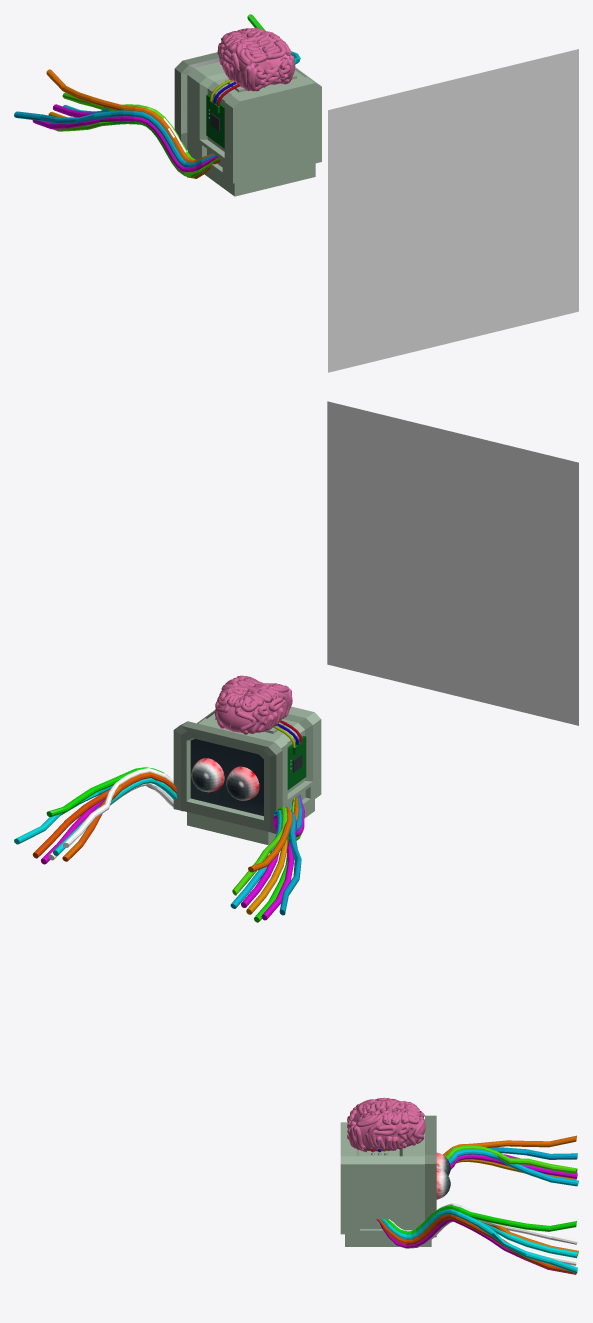
Rendered from Doomscroller Complete.fbx.
3 renders of one model, top to bottom at view 1: azimuth 30°, elevation 25°; view 2: azimuth 150°, elevation 25°; view 3: azimuth 270°, elevation 25°, orthographic. The views are drawn at different scales.
Visible parts, largest first — view 1: Plane, Cube, BezierCurve.003, Cube.010, Cube.011, Cube.009, Cube.008, Cube.002, Cube.005; view 2: Plane, Cube, BezierCurve.003, Sphere, Sphere.001, Cube.019, Cube.010, Cube.012, Cube.002, Cube.015, Cube.009, Cube.013 (+1 smaller); view 3: Cube, BezierCurve.003, Cube.014, Cube.013, Cube.015, Cube.005, Cube.004, Cube.002, Cube.011, Cube.016, Cube.012, Cube.018 (+2 smaller).
Part boxes in pixels (x1,y1,x2,y2): Plane: [328, 49, 578, 372]; Cube: [174, 52, 321, 196]; BezierCurve.003: [217, 27, 294, 91]; Cube.010: [14, 110, 215, 167]; Cube.011: [46, 69, 213, 162]; Cube.009: [32, 116, 218, 172]; Cube.008: [52, 121, 220, 177]; Cube.002: [221, 32, 291, 91]; Cube.005: [62, 92, 195, 160]; Plane: [327, 401, 578, 725]; Cube: [173, 706, 321, 844]; BezierCurve.003: [215, 675, 292, 734]; Sphere: [226, 766, 259, 800]; Sphere.001: [191, 758, 224, 792]; Cube.019: [62, 772, 176, 861]; Cube.010: [279, 795, 302, 915]; Cube.012: [63, 768, 173, 847]; Cube.002: [217, 678, 288, 733]; Cube.015: [32, 789, 109, 858]; Cube.009: [261, 794, 304, 920]; Cube.013: [46, 767, 167, 816]; Cube: [340, 1115, 436, 1246]; BezierCurve.003: [347, 1097, 424, 1150]; Cube.014: [380, 1209, 577, 1273]; Cube.013: [385, 1205, 576, 1234]; Cube.015: [378, 1214, 576, 1274]; Cube.005: [445, 1145, 577, 1173]; Cube.004: [448, 1149, 578, 1186]; Cube.002: [349, 1100, 425, 1152]; Cube.011: [443, 1135, 576, 1155]; Cube.016: [376, 1219, 575, 1274]; Cube.012: [389, 1203, 577, 1244]; Cube.018: [482, 1222, 577, 1258].
Size of the model in its own units: 669 by 620 by 1302.
